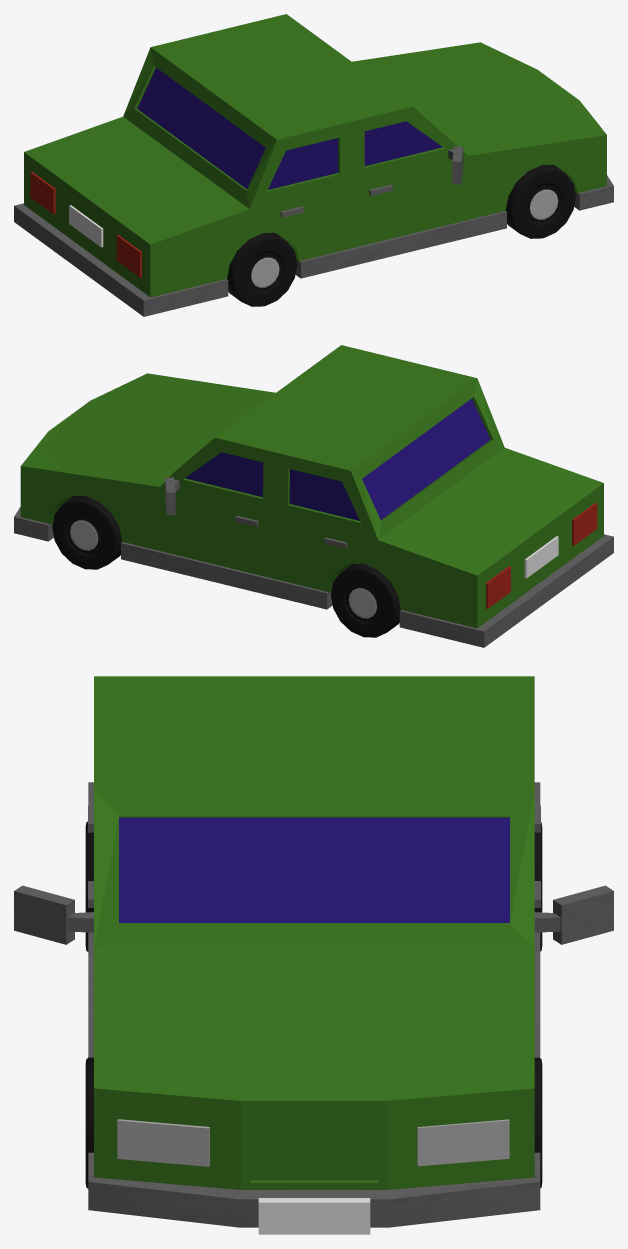
File: Carro.fbx
3 views of the same model, one above another, from view 1: azimuth 30°, elevation 25°; view 2: azimuth 150°, elevation 25°; view 3: azimuth 270°, elevation 25° (orthographic). The views are drawn at different scales.
Visible parts, largest first — view 1: Box001, Box018, Cylinder003, Cylinder004, Box017, Box016, Box007, Box020, Box006, Box011; view 2: Box001, Box018, Cylinder005, Cylinder006, Box017, Box016, Box007, Box006, Box020; view 3: Box001, Box016, Box019, Box002, Box003, Box009, Box011, Box017, Cylinder003, Cylinder006.
Part boxes in pixels (x1,y1,x2,y2): Box001: (24,14,606,297); Box018: (14,203,228,316); Cylinder003: (505,164,575,238); Cylinder004: (227,232,297,306); Box017: (295,211,506,278); Box016: (574,175,613,210); Box007: (69,205,103,247); Box020: (30,172,55,214); Box006: (116,235,141,277); Box011: (452,146,463,184); Box001: (20,345,603,628); Box018: (399,534,613,647); Cylinder005: (331,563,400,637); Cylinder006: (52,495,121,569); Box017: (121,542,332,609); Box016: (14,507,53,541); Box007: (524,536,558,578); Box006: (572,503,597,545); Box020: (486,566,510,608); Box001: (94,676,534,1189); Box016: (88,1152,540,1227); Box019: (258,1198,370,1234); Box002: (117,1119,209,1166); Box003: (417,1119,509,1166); Box009: (553,885,613,944); Box011: (14,885,74,944); Box017: (88,932,540,1057); Cylinder003: (85,1057,93,1188); Cylinder006: (534,1057,542,1187).
Size of the model in its own units: 160 by 49.89 by 96.19.
Materials: 10 (2 with a texture image).
